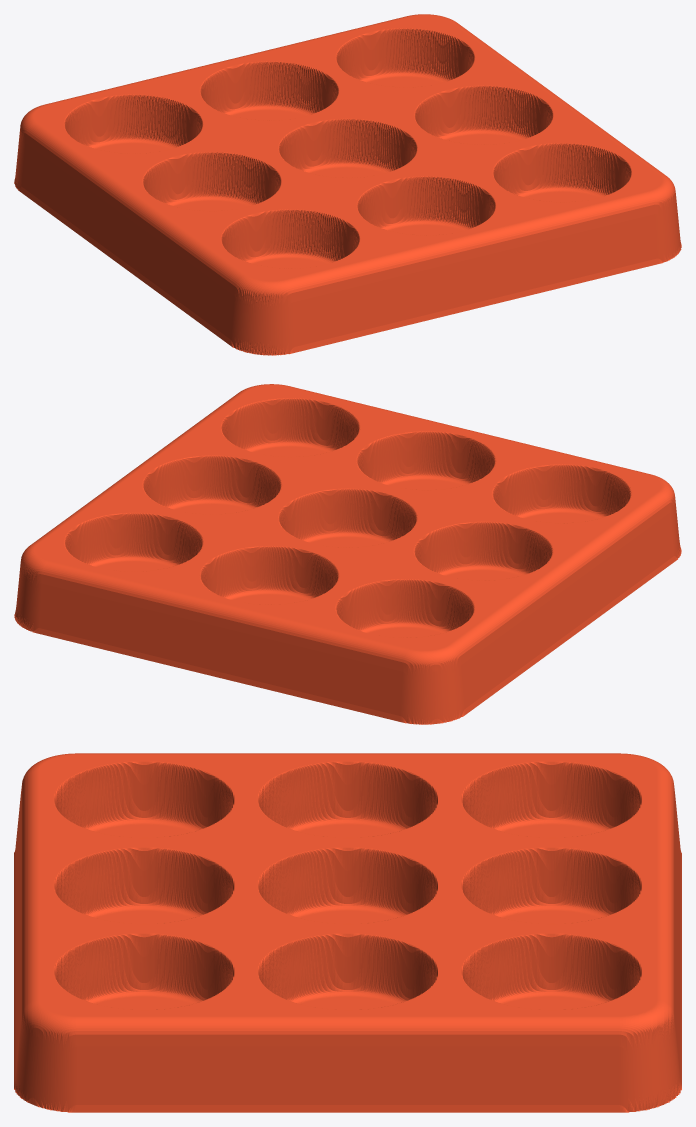
Rendered from mold.glb.
The picture shows the model from 3 angles, top to bottom: view 1: azimuth 30°, elevation 25°; view 2: azimuth 150°, elevation 25°; view 3: azimuth 270°, elevation 25°; orthographic projection. The views are drawn at different scales.
Parts seen in each view (by area): view 1: geometry_0; view 2: geometry_0; view 3: geometry_0.
Boxes of the visible parts, x1,y1,x2,y2 form: geometry_0: [14, 14, 681, 355]; geometry_0: [14, 384, 681, 724]; geometry_0: [14, 753, 681, 1112].
Bounding box in the file's own units: 0.0964 × 0.0136 × 0.0964.
